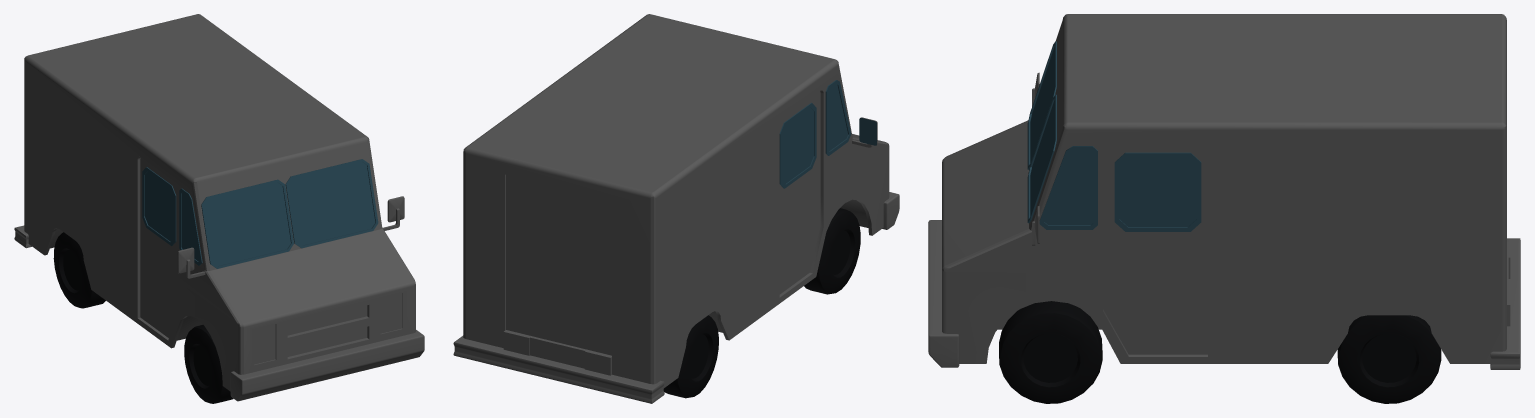
The model's file is milk_truck_realistic.obj.
3 renders of one model, left to right at view 1: azimuth 30°, elevation 25°; view 2: azimuth 150°, elevation 25°; view 3: azimuth 270°, elevation 25°, orthographic. The views are drawn at different scales.
Parts seen in each view (by area): view 1: part_1__truck, part_2__glass, part_4__wheels, part_3__window_trim; view 2: part_1__truck, part_4__wheels, part_2__glass, part_3__window_trim; view 3: part_1__truck, part_4__wheels, part_2__glass, part_3__window_trim.
Boxes of the visible parts, bbox=[...] form: part_1__truck: bbox=[14, 14, 424, 401]; part_2__glass: bbox=[144, 161, 375, 265]; part_4__wheels: bbox=[53, 232, 233, 403]; part_3__window_trim: bbox=[142, 159, 378, 268]; part_1__truck: bbox=[453, 14, 899, 403]; part_4__wheels: bbox=[663, 208, 860, 398]; part_2__glass: bbox=[782, 84, 876, 183]; part_3__window_trim: bbox=[779, 80, 851, 188]; part_1__truck: bbox=[928, 14, 1520, 369]; part_4__wheels: bbox=[999, 301, 1441, 403]; part_2__glass: bbox=[1030, 47, 1196, 227]; part_3__window_trim: bbox=[1027, 41, 1201, 231].
Bounding box in the file's own units: 2.79 × 2.58 × 4.87.
